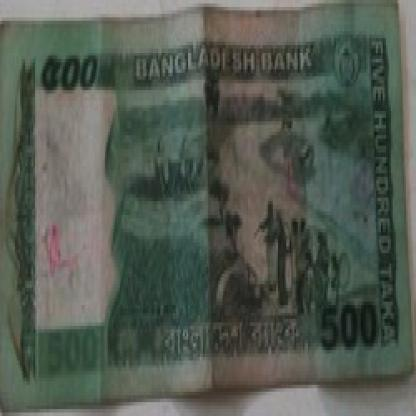500 taka: (18, 45, 118, 104)
currency: (3, 21, 414, 385)
